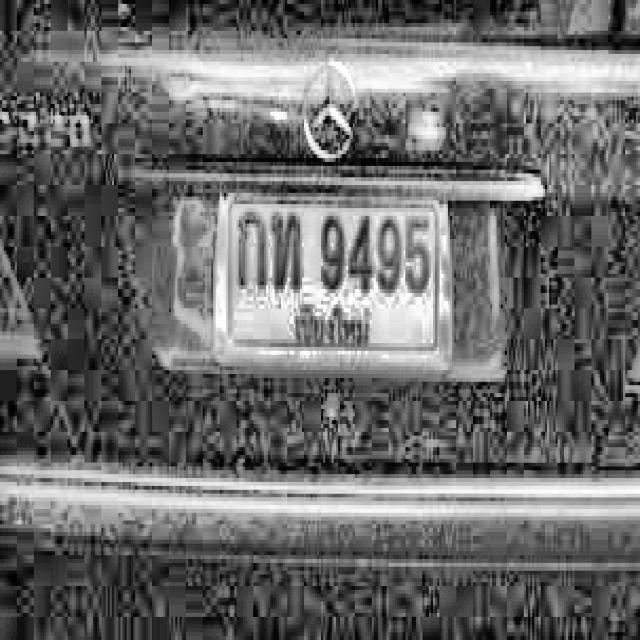license-plate: (192, 148, 486, 408)
